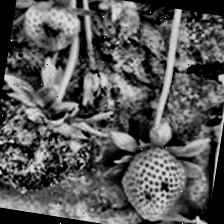Anthracnose Fruit Rot: (0, 95, 97, 200), (81, 0, 145, 51), (29, 18, 77, 55), (154, 174, 178, 198)
